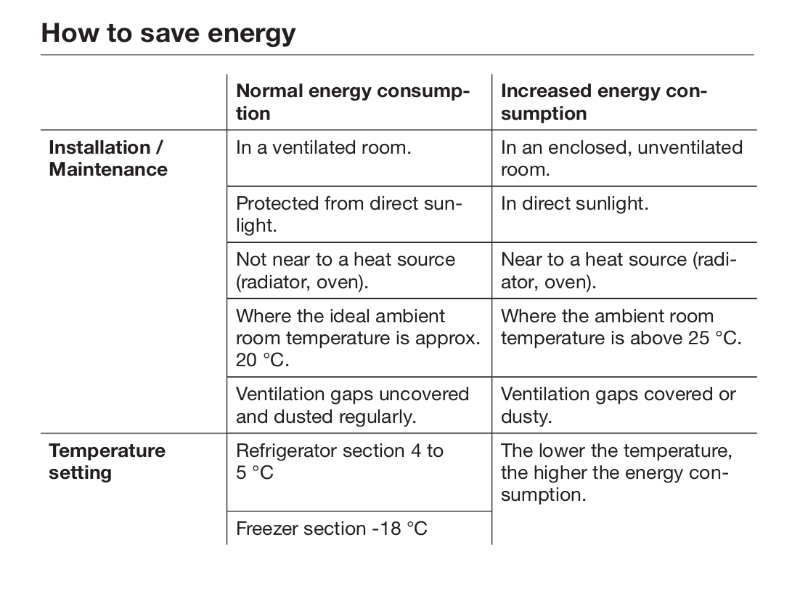borederless: (22, 58, 782, 554)
cell: (497, 438, 750, 512), (231, 304, 485, 371), (495, 304, 745, 372), (229, 438, 486, 496), (230, 381, 487, 428), (495, 380, 746, 428), (495, 246, 745, 294), (497, 133, 745, 181), (230, 248, 483, 293), (230, 191, 482, 236), (232, 78, 481, 123), (44, 437, 221, 495), (497, 78, 715, 125), (495, 191, 744, 224), (232, 133, 483, 163), (229, 518, 487, 545), (43, 137, 178, 182)
